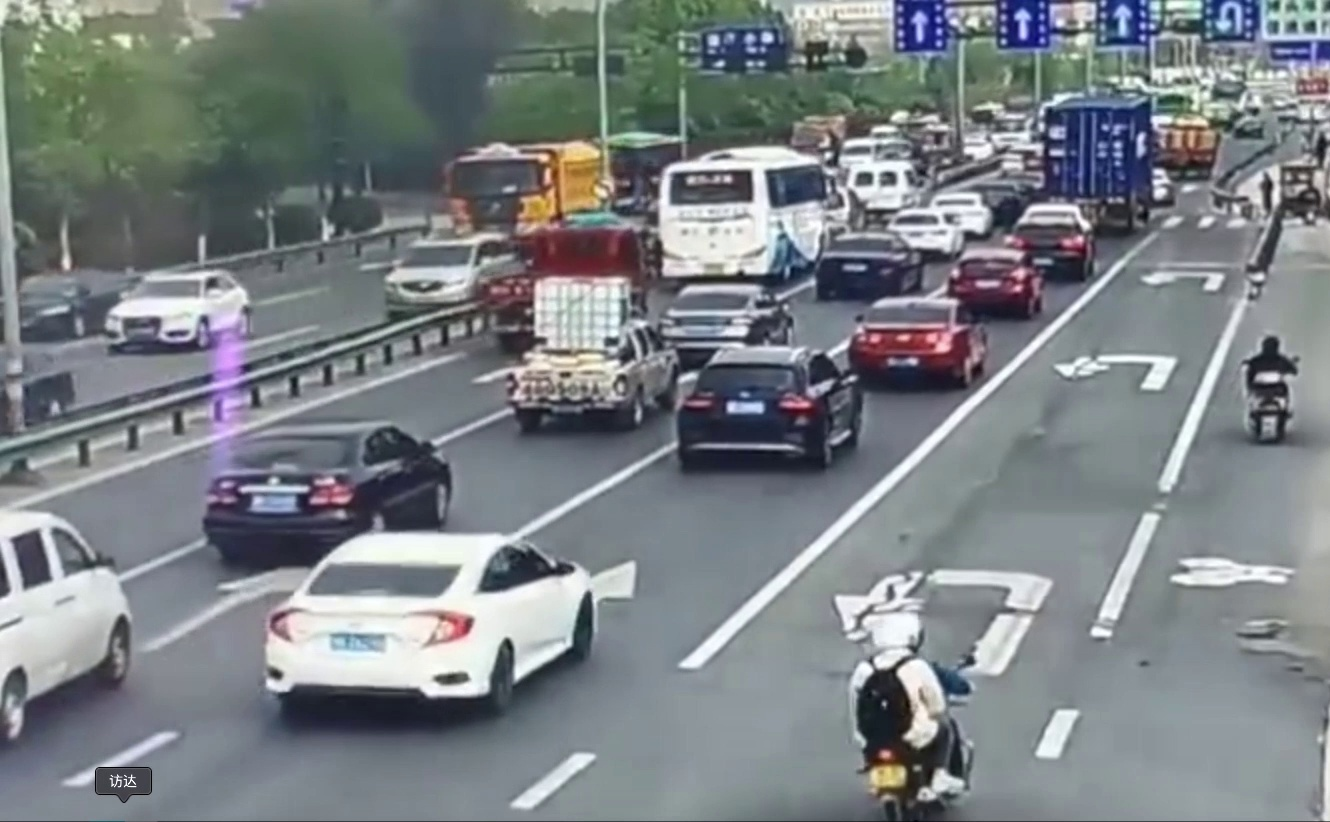smoke: (382, 17, 504, 133)
